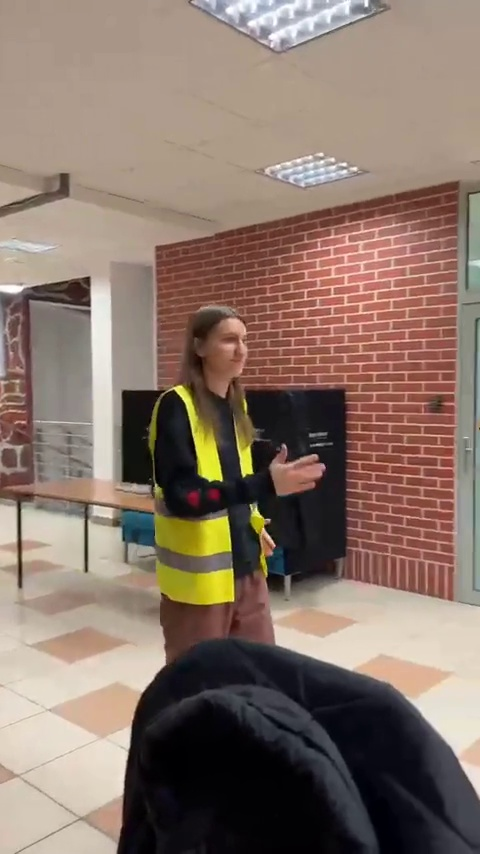vest: (136, 302, 316, 647)
